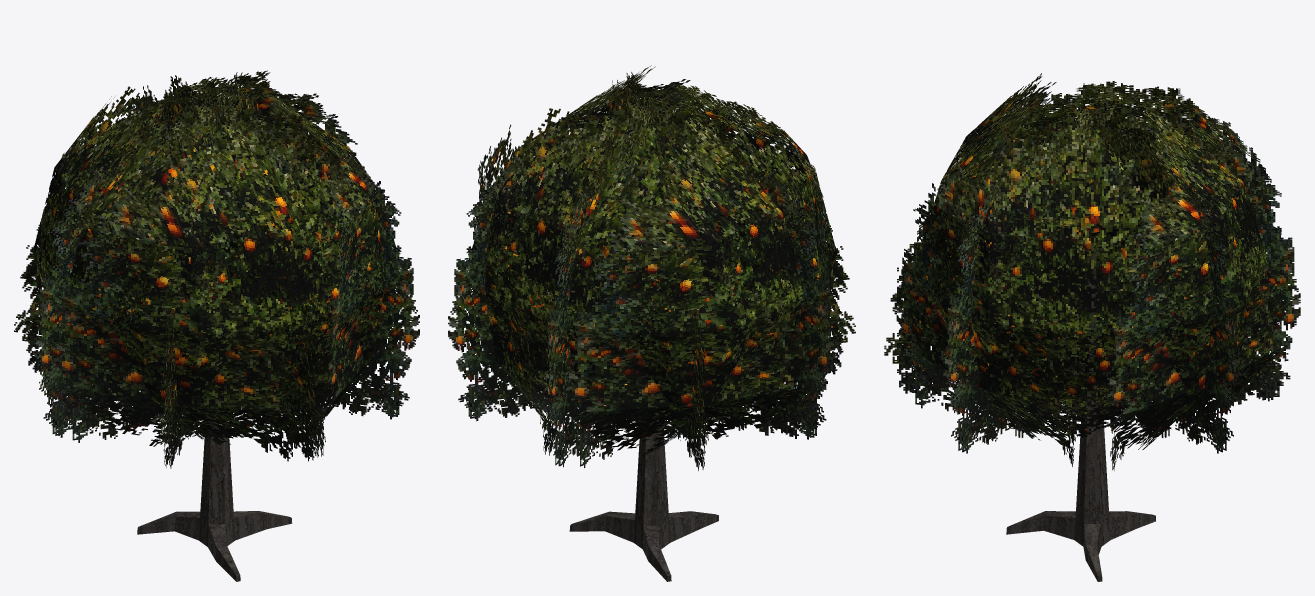
Rendered from tree03.glb.
3 views of the same model, side by side, from view 1: azimuth 30°, elevation 25°; view 2: azimuth 150°, elevation 25°; view 3: azimuth 270°, elevation 25° (orthographic).
Parts seen in each view (by area): view 1: tree03_top, tree03; view 2: tree03_top, tree03; view 3: tree03_top, tree03.
Part boxes in pixels (<box>): tree03_top: <box>14,70,419,468</box>; tree03: <box>137,242,292,581</box>; tree03_top: <box>448,65,855,470</box>; tree03: <box>569,251,718,581</box>; tree03_top: <box>884,73,1300,470</box>; tree03: <box>1006,248,1155,581</box>.
Bounding box in the file's own units: 3.36 × 3.94 × 3.36.
1 material, 1 textured.
